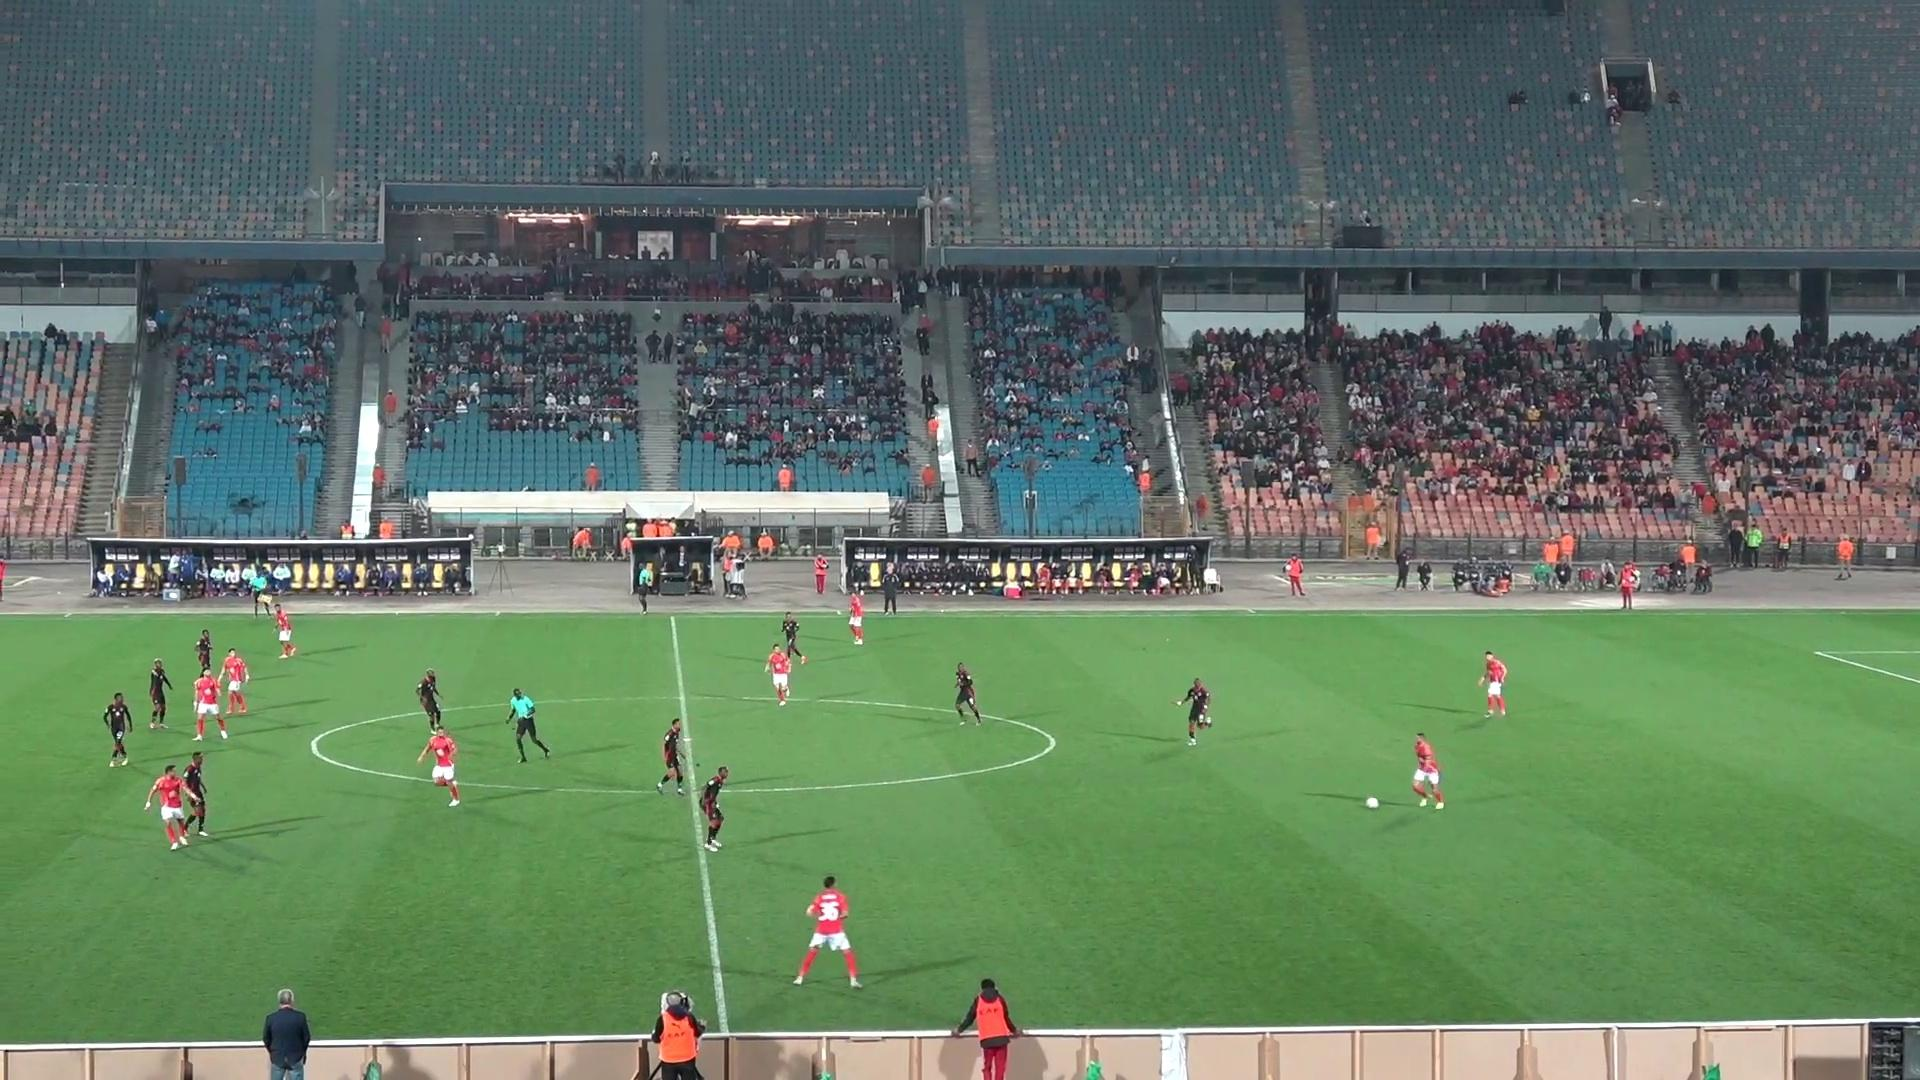Ball: (1350, 795, 1382, 810)
Refree: (506, 688, 550, 761), (632, 553, 658, 613), (251, 566, 277, 615)
Team1: (793, 877, 861, 988), (144, 765, 200, 851), (418, 727, 460, 806), (193, 667, 229, 740), (766, 644, 807, 705), (1412, 732, 1443, 808), (262, 603, 298, 658), (1478, 651, 1507, 717), (222, 649, 249, 715), (847, 589, 865, 645)
Team2: (655, 717, 694, 793), (1174, 676, 1212, 745), (699, 766, 729, 851), (179, 752, 208, 836), (102, 692, 131, 766), (953, 663, 982, 723), (415, 669, 444, 727), (771, 612, 806, 659), (148, 659, 171, 728), (194, 628, 220, 671)
